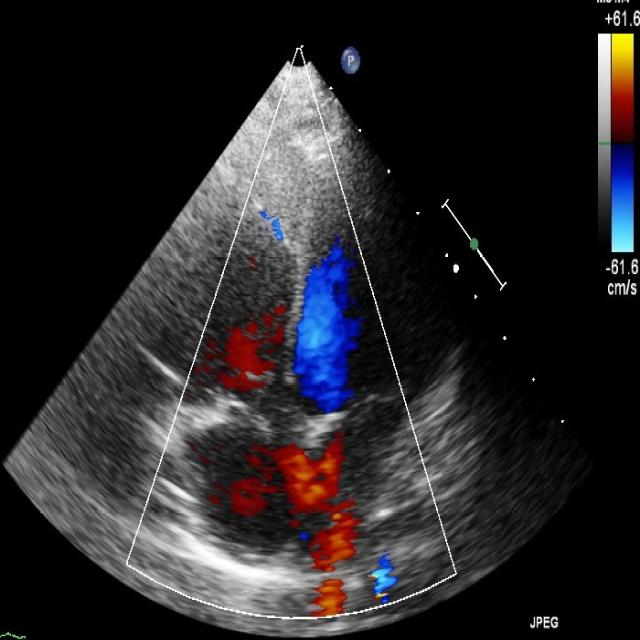ASDType2: (273, 449, 344, 514)
